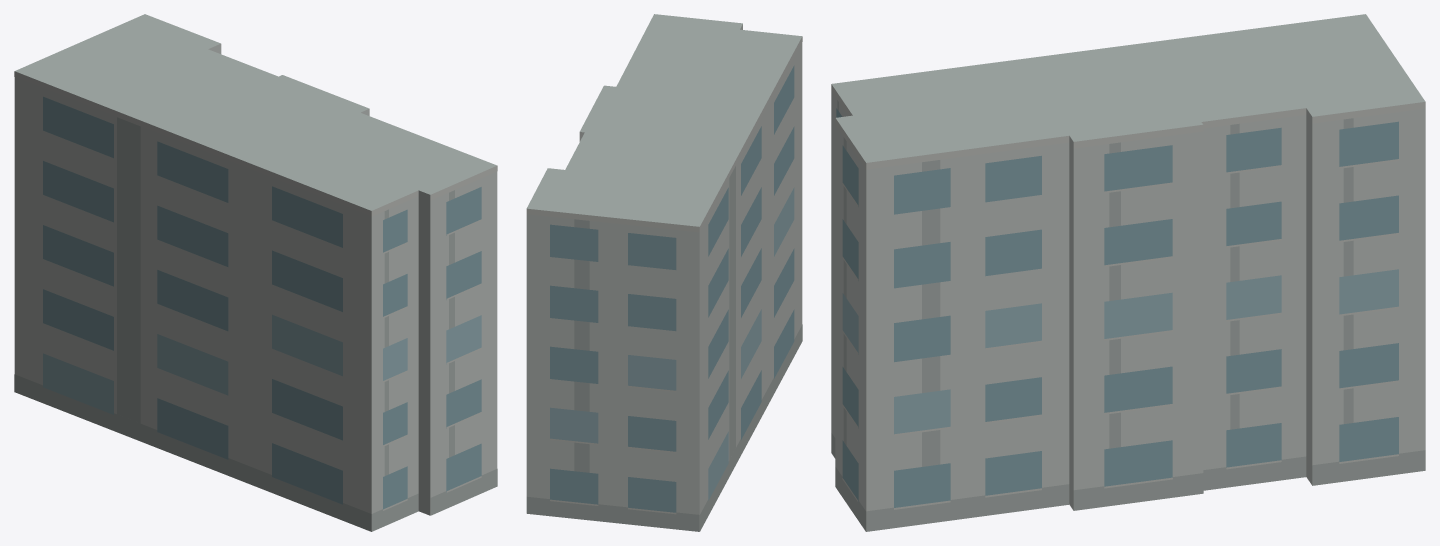
The model's file is survey-upis-32562174.glb.
3 views of the same model, side by side, from view 1: azimuth 30°, elevation 25°; view 2: azimuth 150°, elevation 25°; view 3: azimuth 270°, elevation 25° (orthographic). The views are drawn at different scales.
Parts seen in each view (by area): view 1: survey-upis-32562174.tmp; view 2: survey-upis-32562174.tmp; view 3: survey-upis-32562174.tmp.
Part boxes in pixels (box(x1,y1,x2,y2)): survey-upis-32562174.tmp: box(14, 14, 497, 531); survey-upis-32562174.tmp: box(526, 14, 802, 531); survey-upis-32562174.tmp: box(831, 14, 1425, 531).
Size of the model in its own units: 11.43 by 13.2 by 19.28.
